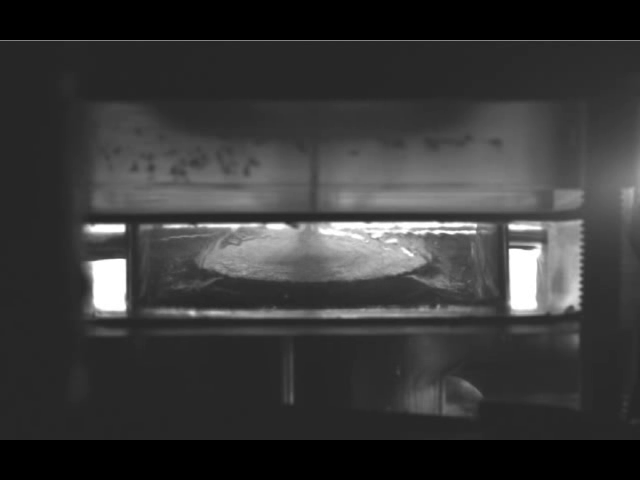Zona de teste: (197, 234, 430, 280)
